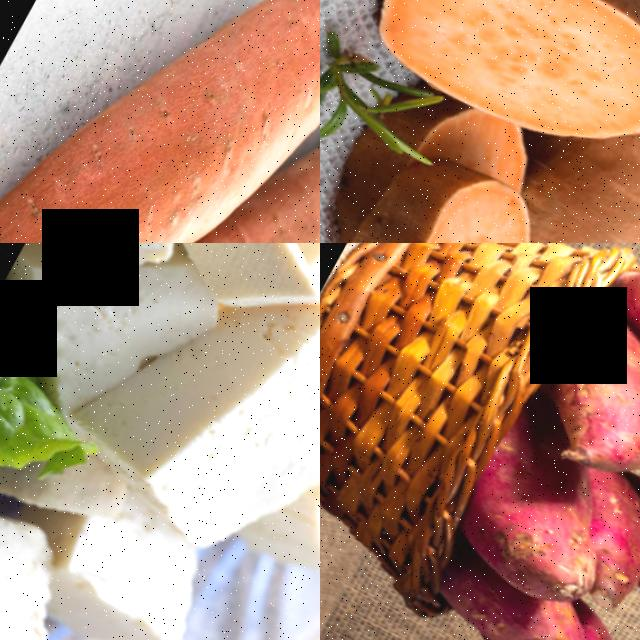sweet potato: (49, 0, 320, 243), (352, 0, 640, 186), (448, 434, 640, 612), (204, 0, 320, 243), (524, 302, 640, 490), (346, 153, 569, 243), (405, 555, 640, 640), (0, 140, 158, 243), (492, 169, 640, 243)
tofu: (63, 254, 320, 603), (30, 502, 231, 640), (0, 461, 107, 640), (157, 243, 320, 337), (31, 243, 223, 285)
